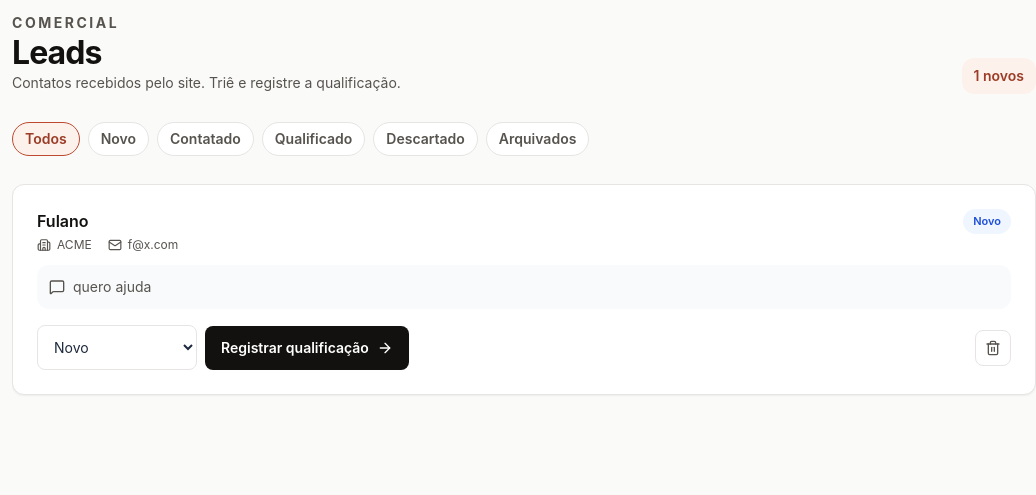
it: registra a qualificação do lead e diz o resultado
expect the heading "Fulano" is shown: met, box [37, 211, 89, 231]
Click the button "Registrar qualificação" at (307, 348), box [205, 326, 409, 370]
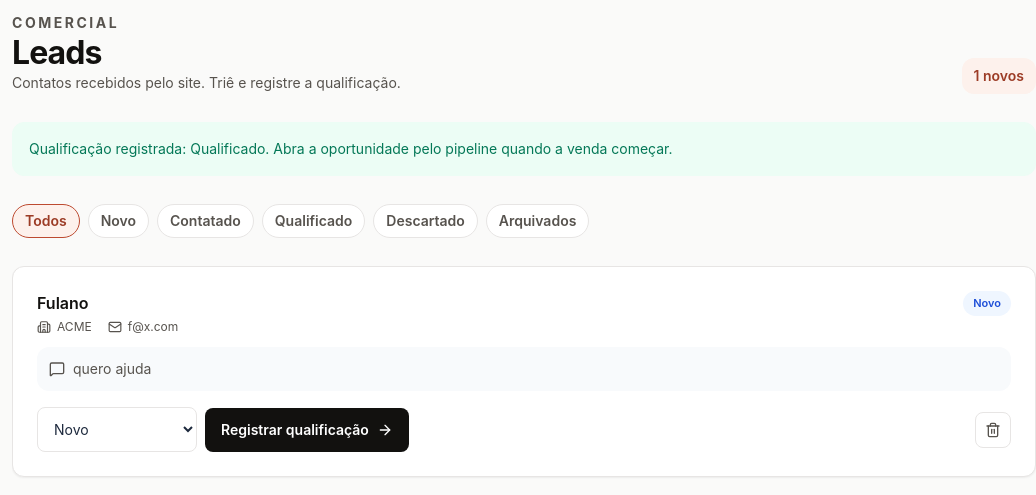
expect the message shows "Qualificação registrada: Qualificado": met, box [29, 140, 673, 157]
